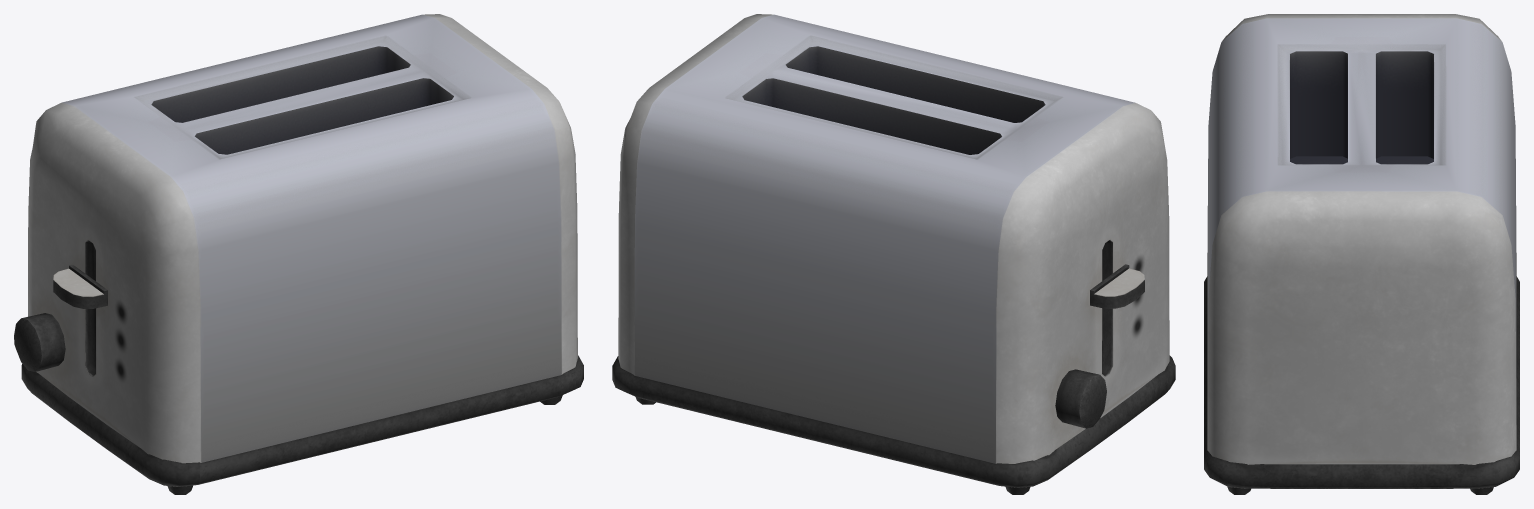
The model's file is Toaster.fbx.
The picture shows the model from 3 angles, left to right: view 1: azimuth 30°, elevation 25°; view 2: azimuth 150°, elevation 25°; view 3: azimuth 270°, elevation 25°; orthographic projection.
Parts seen in each view (by area): view 1: Toaster_A, Toaster_C, Toaster_B; view 2: Toaster_A, Toaster_C, Toaster_B; view 3: Toaster_A.
Part boxes in pixels (box(x1,y1,x2,y2)): Toaster_A: box(21, 14, 583, 494); Toaster_C: box(14, 313, 65, 371); Toaster_B: box(53, 264, 107, 308); Toaster_A: box(612, 14, 1175, 494); Toaster_C: box(1055, 369, 1106, 428); Toaster_B: box(1090, 264, 1144, 308); Toaster_A: box(1204, 14, 1519, 494).
Size of the model in its own units: 39.74 by 25.01 by 24.05.
Materials: 1 (1 with a texture image).
